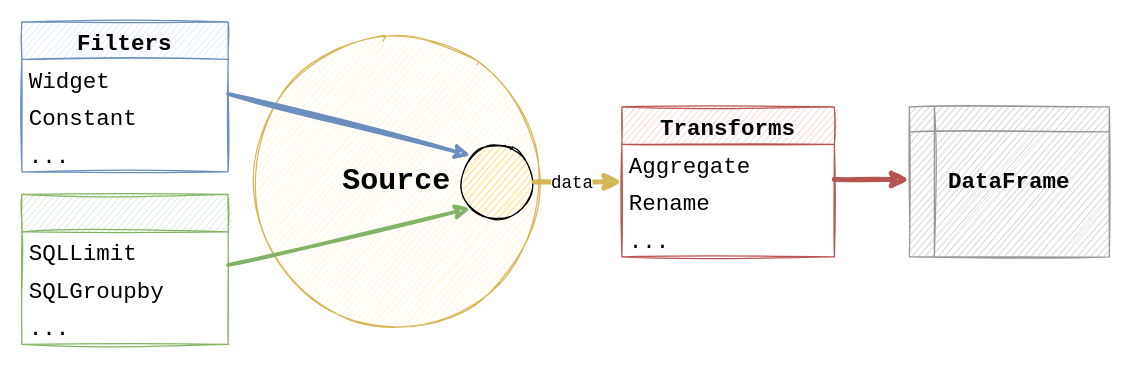
Some shapes in this 1131 by 366 pixel diagram are drawn without their labels. The shapes that lost their labels are listed below. From the top down, each one's box as (x1, y1, x2, y2) in pixels, then its label:
(458, 143, 534, 219): .get
(21, 193, 228, 344): SQLTransforms
